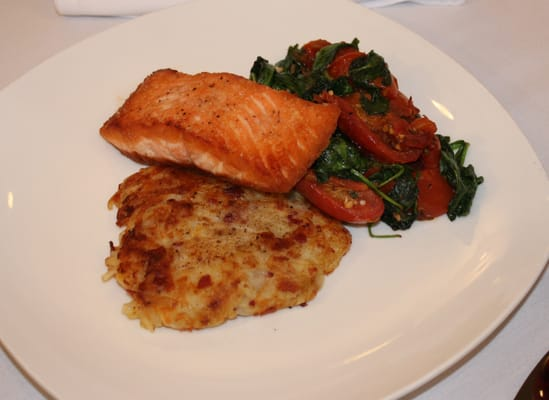curry: (25, 1, 548, 399)
